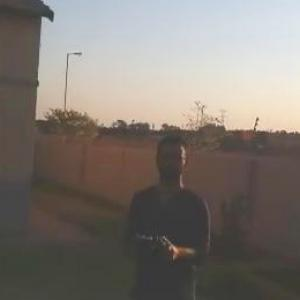follow: (118, 130, 214, 299)
